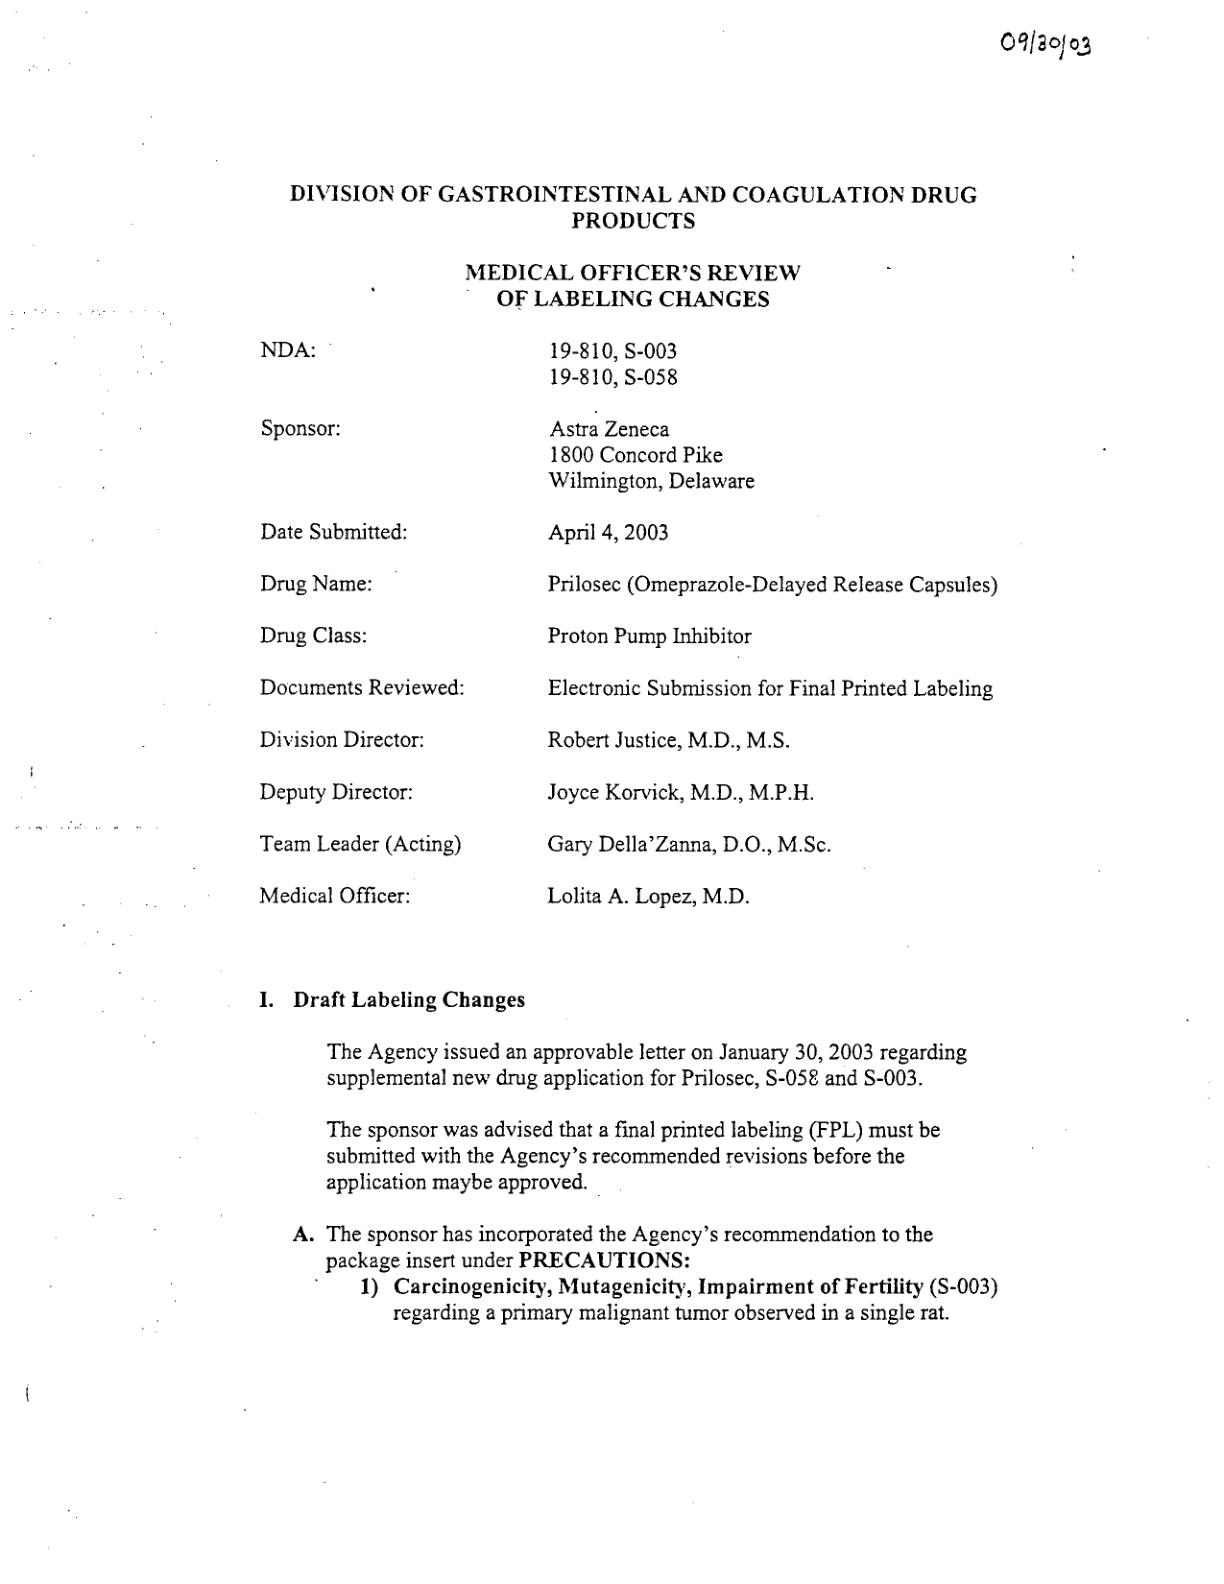nolines: (256, 339, 998, 908)
